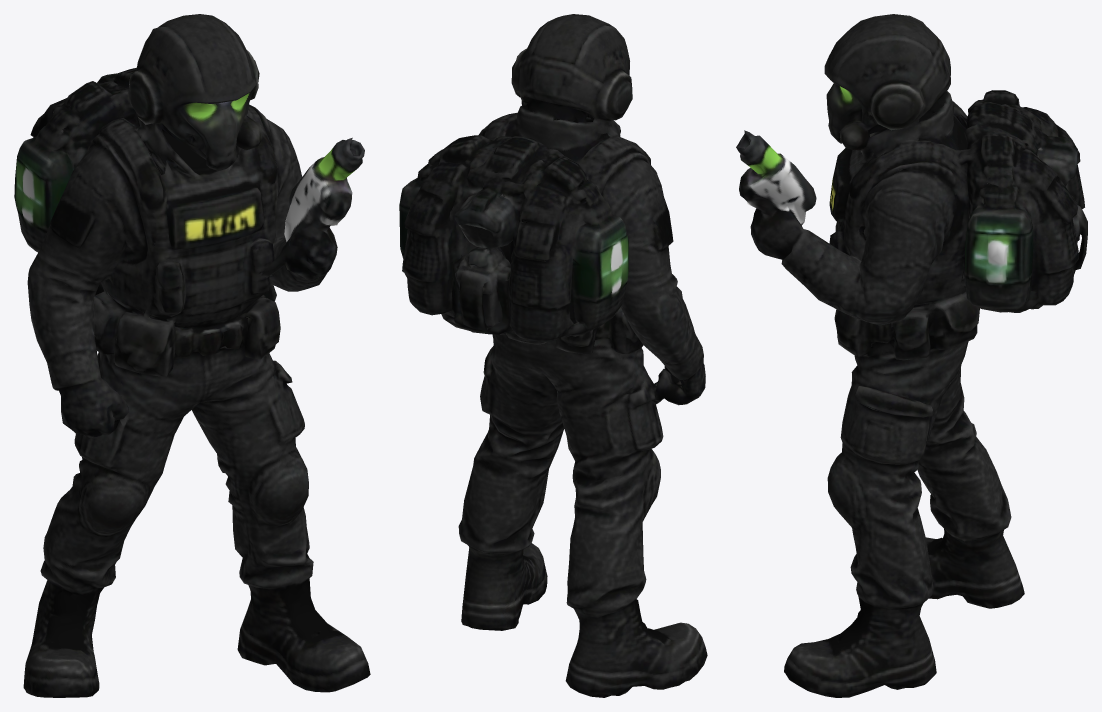
File: medic_l01.glb
3 views of the same model, side by side, from view 1: azimuth 30°, elevation 25°; view 2: azimuth 150°, elevation 25°; view 3: azimuth 270°, elevation 25° (orthographic). The views are drawn at different scales.
Visible parts, largest first — view 1: world; view 2: world; view 3: world.
Boxes of the visible parts, box(x1,y1,x2,y2) form: world: box(14, 14, 370, 697); world: box(399, 14, 707, 697); world: box(736, 14, 1087, 697).
Bounding box in the file's own units: 0.4459 × 1 × 0.5167.
1 material, 1 textured.
